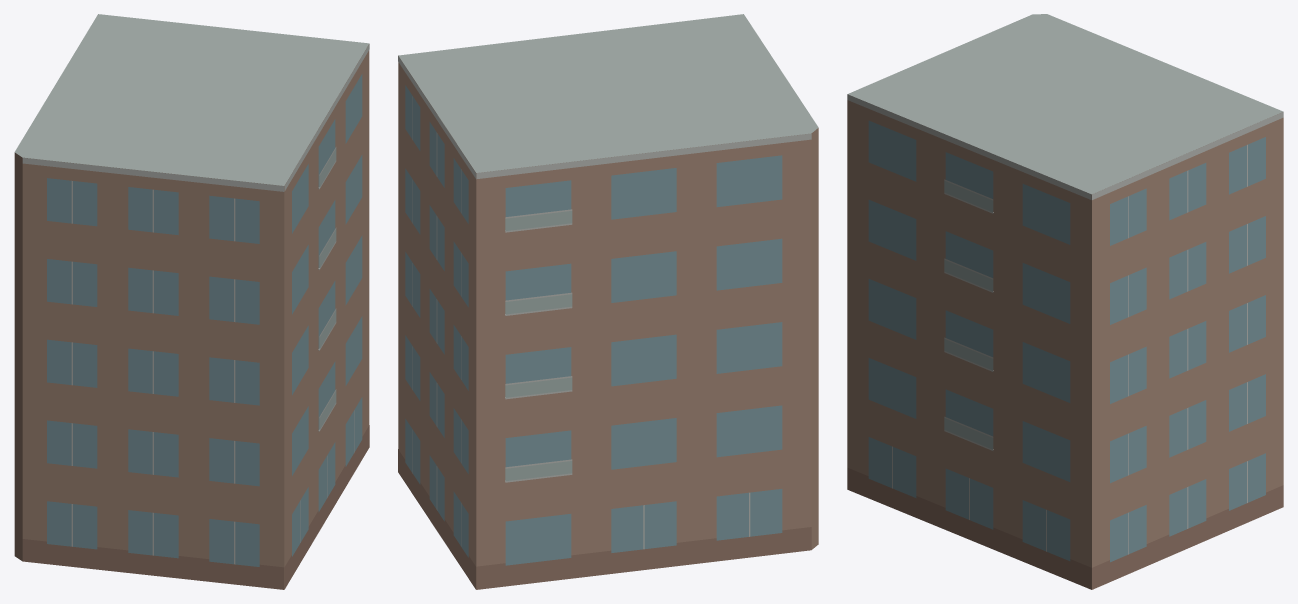
The model's file is survey-upis-32663885.glb.
3 renders of one model, left to right at view 1: azimuth 30°, elevation 25°; view 2: azimuth 150°, elevation 25°; view 3: azimuth 270°, elevation 25°, orthographic. The views are drawn at different scales.
Visible parts, largest first — view 1: survey-upis-32663885.tmp; view 2: survey-upis-32663885.tmp; view 3: survey-upis-32663885.tmp.
Part boxes in pixels (box(x1,y1,x2,y2)): survey-upis-32663885.tmp: box(14, 14, 369, 589); survey-upis-32663885.tmp: box(398, 14, 818, 589); survey-upis-32663885.tmp: box(847, 14, 1283, 589).
Size of the model in its own units: 16.16 by 16.5 by 16.5.
